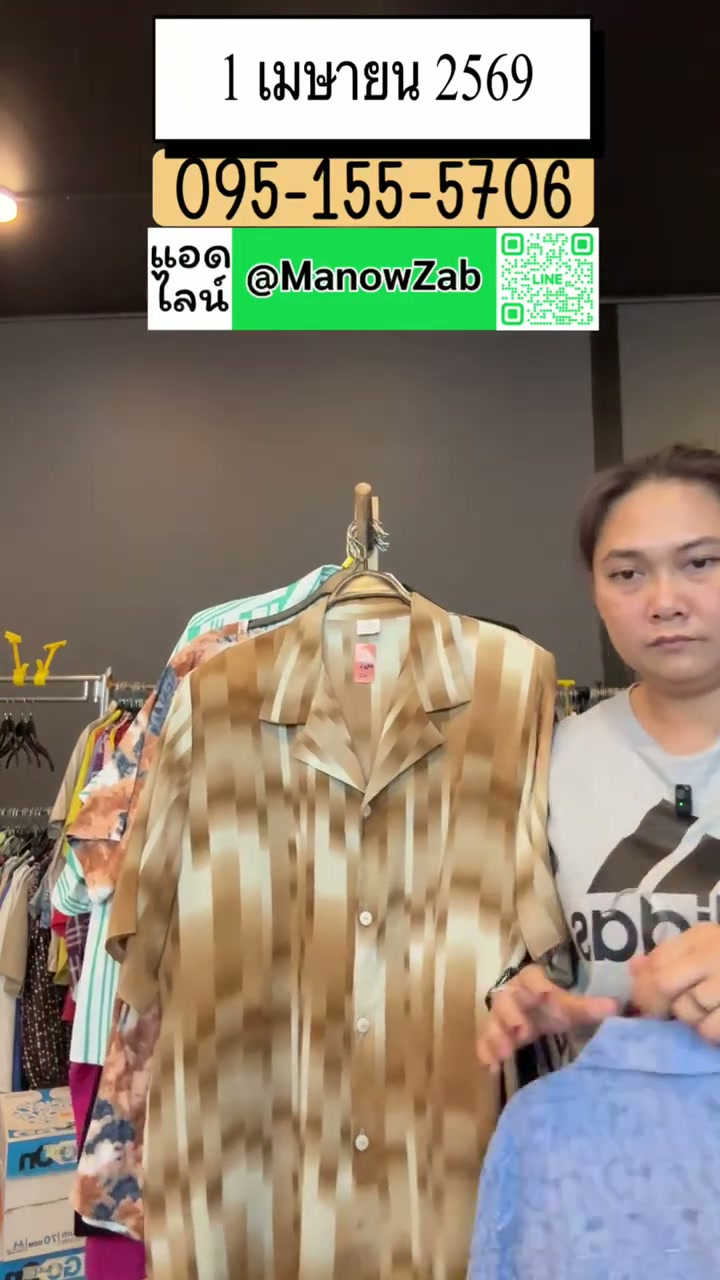display_shirt: (110, 594, 560, 1279)
